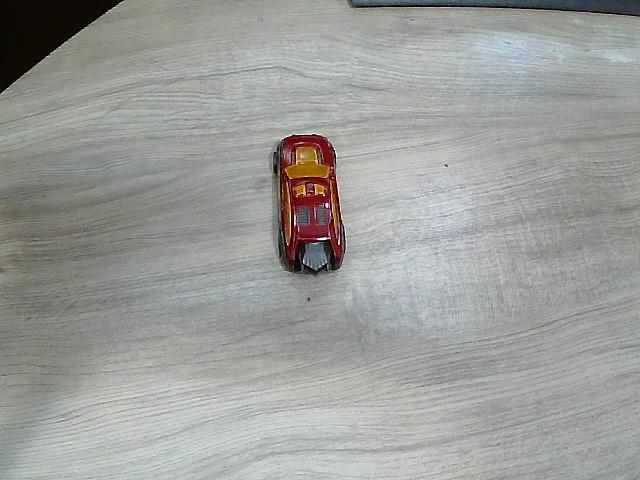Carro: (275, 135, 346, 276)
